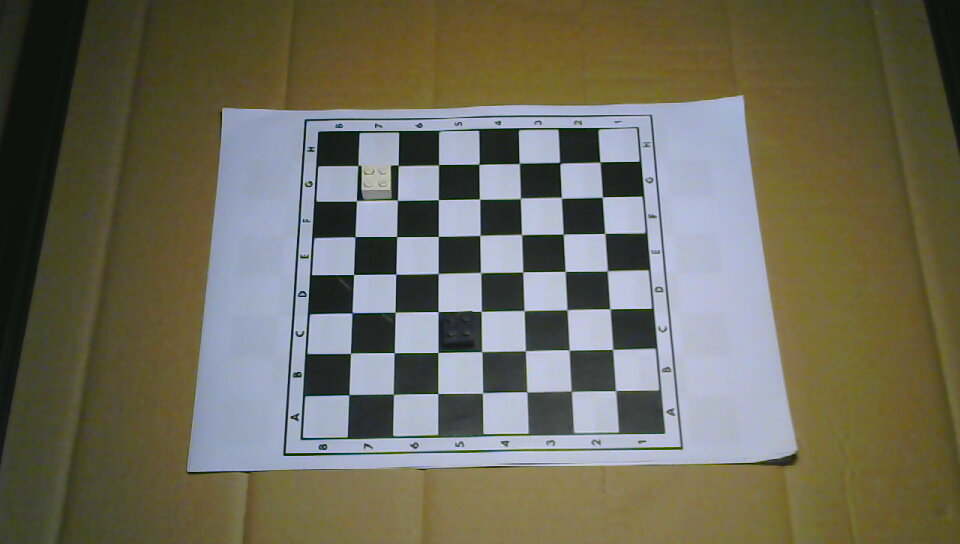bp: (441, 311, 475, 348)
wp: (359, 163, 392, 199)
